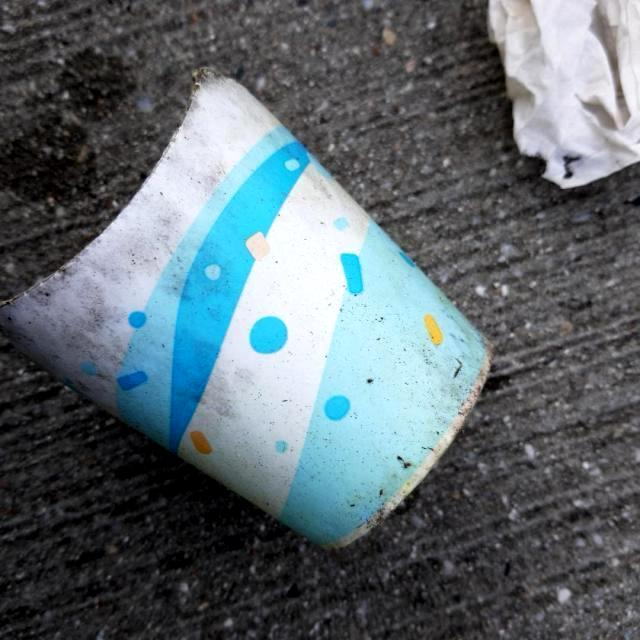Paper: (0, 59, 496, 556)
